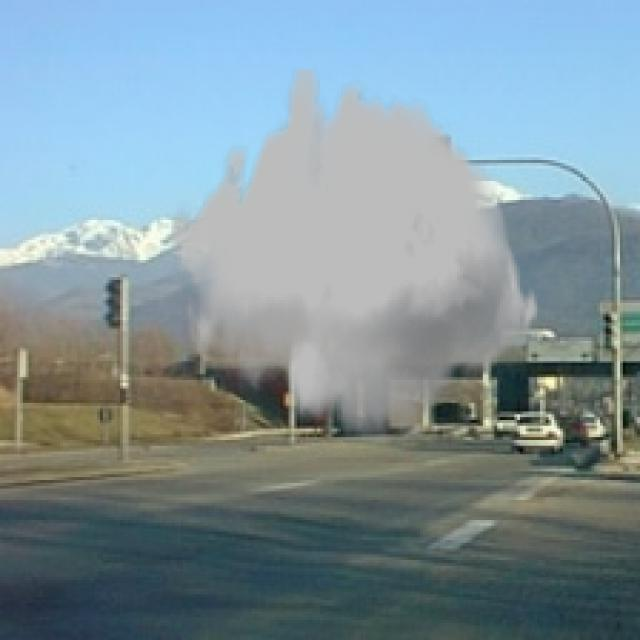Smoke: (168, 68, 540, 443)
